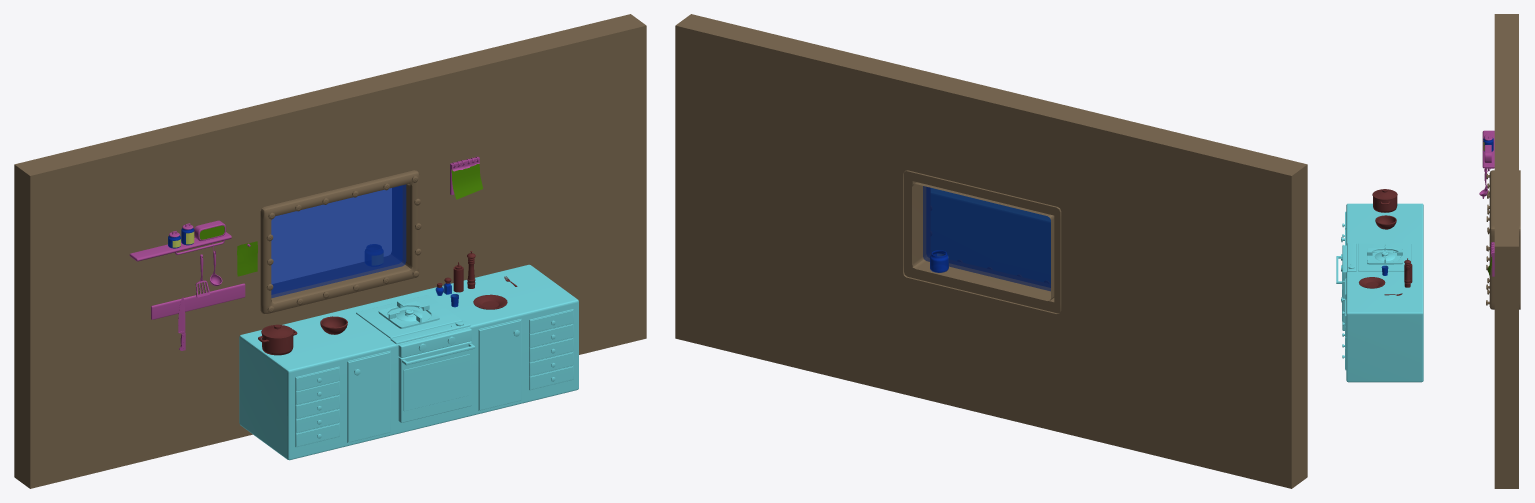
File: Kitchen_Everything_01.fbx
The picture shows the model from 3 angles, left to right: view 1: azimuth 30°, elevation 25°; view 2: azimuth 150°, elevation 25°; view 3: azimuth 270°, elevation 25°; orthographic projection. The views are drawn at different scales.
Visible parts, largest first — view 1: Wall, Table, Glass_Main, Fire_Oven, Knife_Magnet1, polySurface39, Shelf3; view 2: Wall, Glass_Main, Table; view 3: Wall, Table, Fire_Oven, Pot1, Shelf3, Plate1, Cup_05, Pot_Hat1.
Part boxes in pixels (x1,y1,x2,y2): Wall: [14, 14, 646, 488]; Table: [239, 264, 578, 460]; Glass_Main: [271, 184, 406, 297]; Fire_Oven: [356, 295, 470, 344]; Knife_Magnet1: [151, 283, 245, 319]; polySurface39: [451, 164, 482, 199]; Shelf3: [129, 232, 231, 261]; Wall: [675, 14, 1307, 488]; Glass_Main: [923, 186, 1050, 291]; Table: [931, 188, 1050, 282]; Wall: [1486, 14, 1520, 488]; Table: [1336, 203, 1423, 382]; Fire_Oven: [1347, 243, 1411, 271]; Pot1: [1373, 196, 1397, 212]; Shelf3: [1482, 130, 1494, 168]; Plate1: [1359, 277, 1385, 288]; Cup_05: [1375, 215, 1396, 229]; Pot_Hat1: [1372, 189, 1397, 200].
Size of the model in its own units: 712 by 346 by 239.
